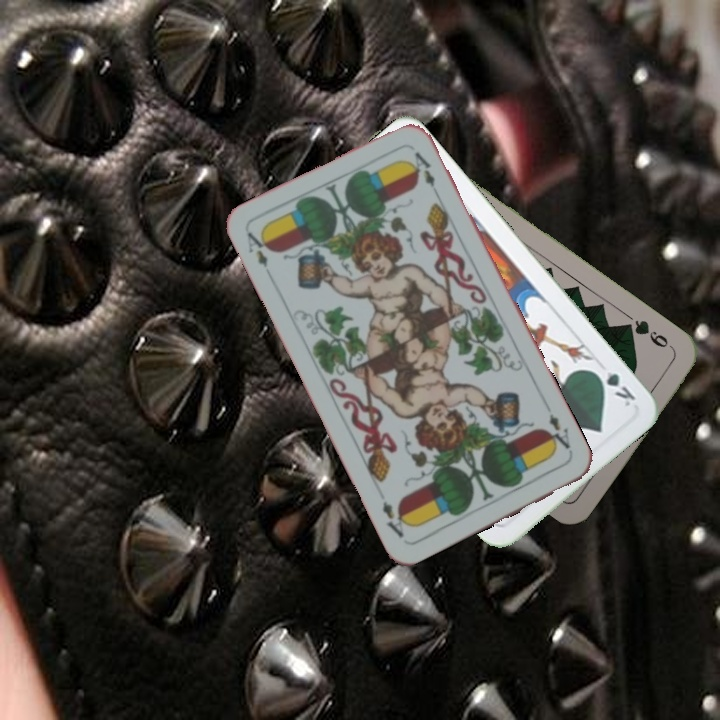EA: (540, 409, 576, 457), (243, 227, 274, 270)
G9: (621, 315, 677, 353)
GK: (589, 364, 639, 410)
